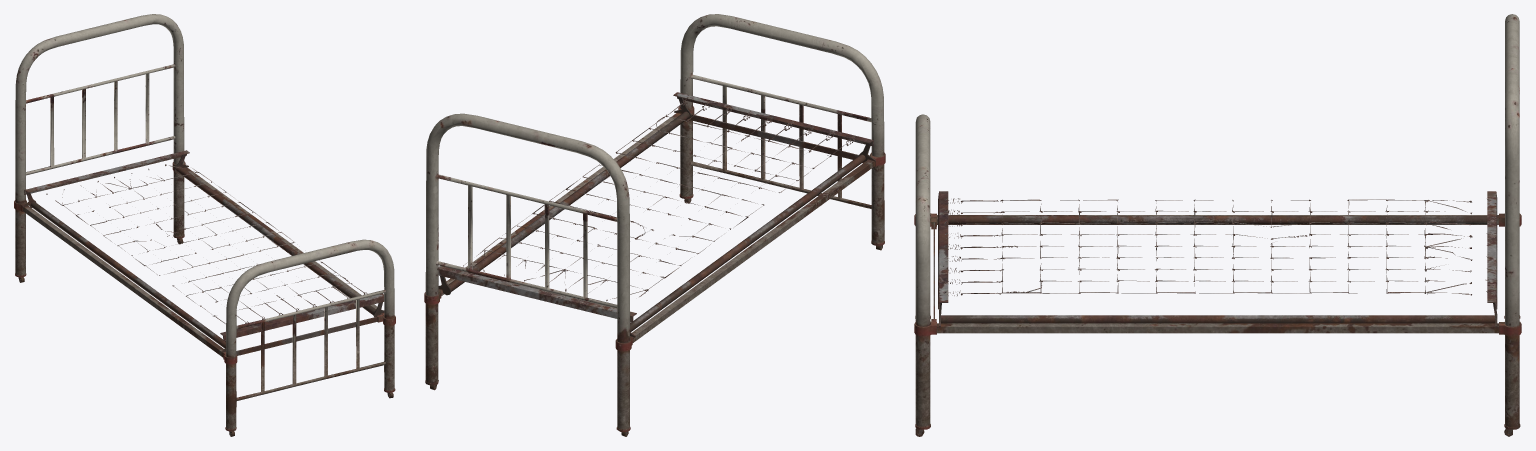
The model's file is old_bed_frame.glb.
3 views of the same model, side by side, from view 1: azimuth 30°, elevation 25°; view 2: azimuth 150°, elevation 25°; view 3: azimuth 270°, elevation 25° (orthographic). The views are drawn at different scales.
Parts seen in each view (by area): view 1: old_bed_frame; view 2: old_bed_frame; view 3: old_bed_frame.
Part boxes in pixels (x1=…): old_bed_frame: x1=14, y1=14, x2=395, y2=436; old_bed_frame: x1=424, y1=14, x2=885, y2=436; old_bed_frame: x1=914, y1=14, x2=1521, y2=436.
Bounding box in the file's own units: 0.9047 × 1.2 × 2.
Materials: 1 (1 with a texture image).
